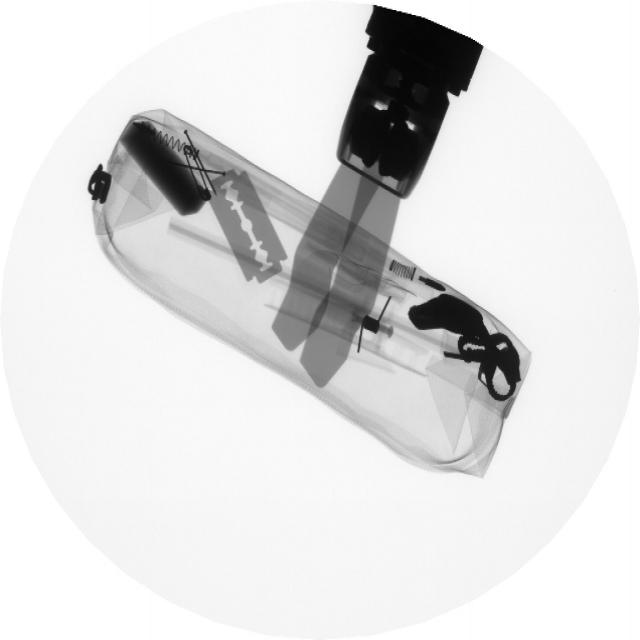BLADE: (207, 161, 288, 293)
